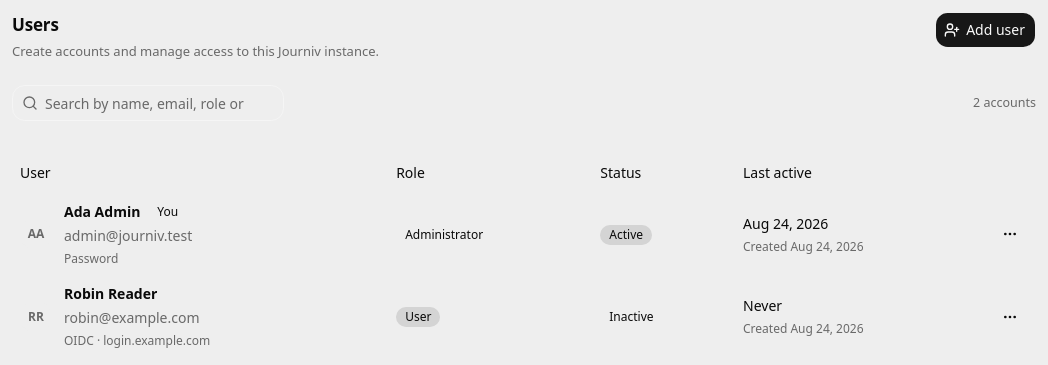
Administration users › hides deactivate and delete on the signed-in admin's own row
The width and height of the screenshot is (1048, 365).
Expected: the text "Ada Admin" is shown, top-left (64, 202), bottom-right (140, 220)
Click the button named "Ada Admin actions".
click(1010, 234)  # box top-left (992, 216), bottom-right (1028, 252)
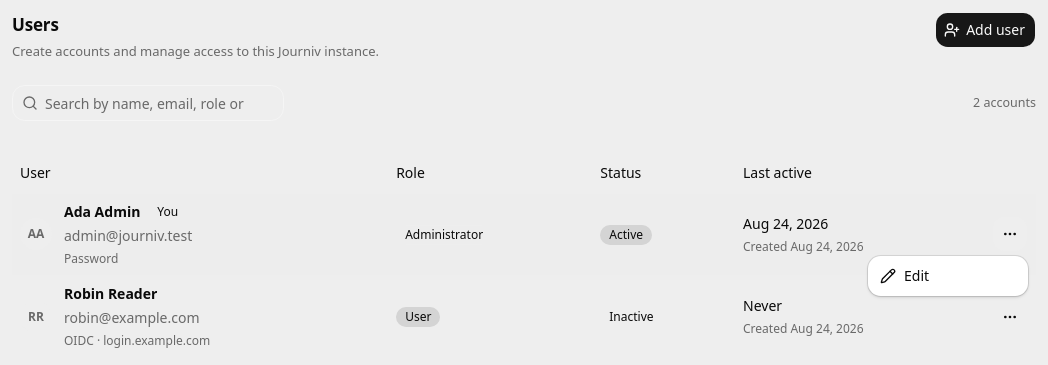
Expected: the menu item "Edit" is shown, top-left (880, 266), bottom-right (929, 285)
